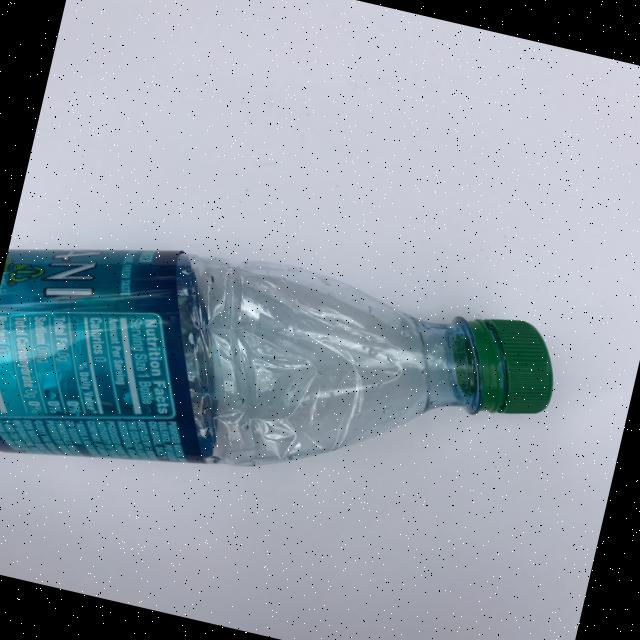plastic: (0, 200, 567, 577)
